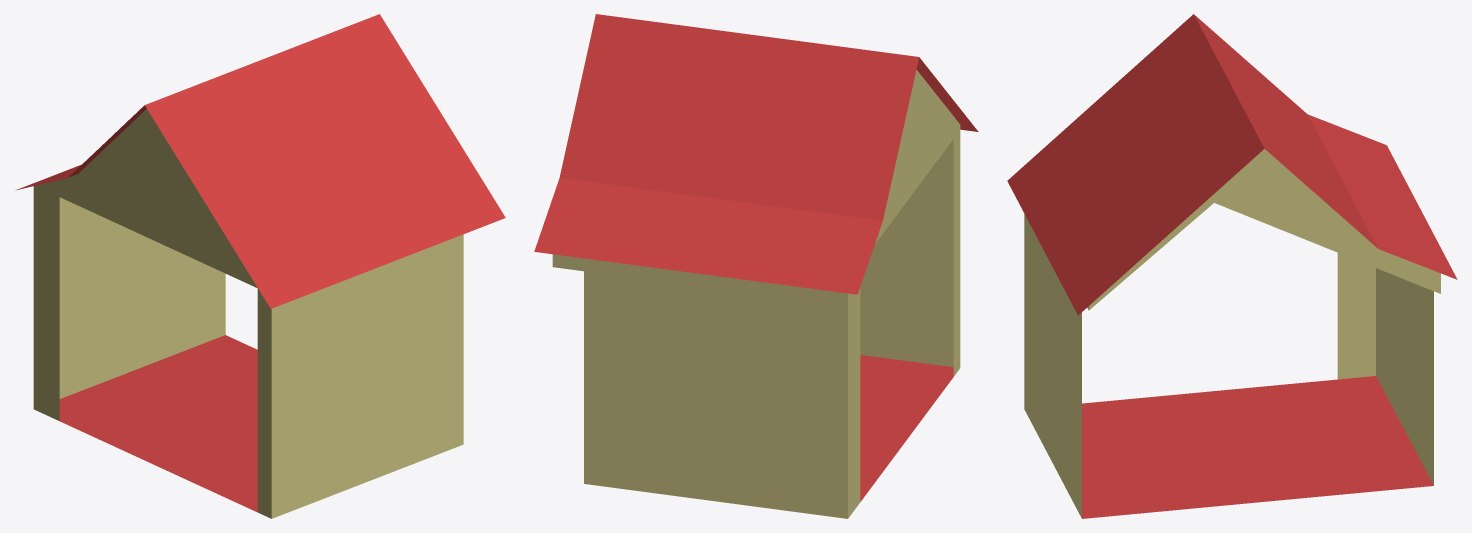
3 renders of one model, left to right at view 1: azimuth 30°, elevation 25°; view 2: azimuth 150°, elevation 25°; view 3: azimuth 270°, elevation 25°, orthographic. The views are drawn at different scales.
Bounding box in the file's own units: 14.21 × 15.88 × 14.5.
